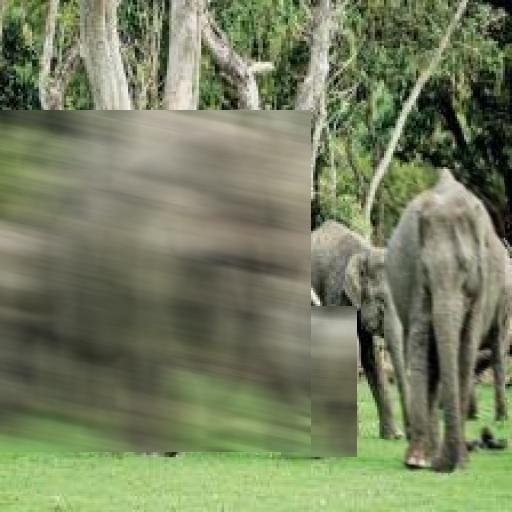Elephant: (0, 110, 311, 452), (384, 169, 504, 472), (91, 178, 208, 450), (281, 306, 357, 457)
